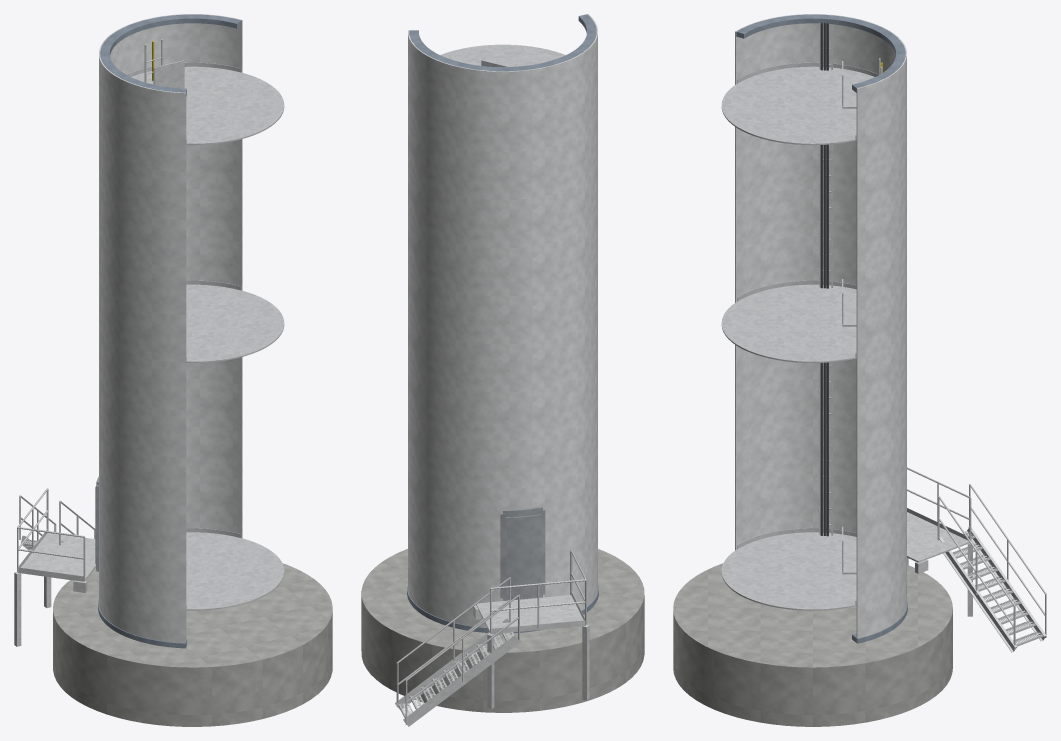
File: wind-tower-internals.glb
The picture shows the model from 3 angles, left to right: view 1: azimuth 30°, elevation 25°; view 2: azimuth 150°, elevation 25°; view 3: azimuth 270°, elevation 25°; orthographic projection.
Parts seen in each view (by area): view 1: TowerShell(contextcutaway), Foundation(context), Platforms, EntrancePlatform&Stair, Flanges(context); view 2: TowerShell(contextcutaway), Foundation(context), EntrancePlatform&Stair, DoorFrame, Flanges(context), Platforms; view 3: TowerShell(contextcutaway), Foundation(context), Platforms, EntrancePlatform&Stair, ExportCables(context), Flanges(context), CableLadder&Clamps.
Boxes of the visible parts, x1,y1,x2,y2 form: TowerShell(contextcutaway): (99,14,242,643); Foundation(context): (53,563,332,726); Platforms: (127,60,284,610); EntrancePlatform&Stair: (14,488,95,646); Flanges(context): (98,14,241,648); TowerShell(contextcutaway): (408,14,597,627); Foundation(context): (361,549,644,712); EntrancePlatform&Stair: (395,550,589,726); DoorFrame: (500,506,545,600); Flanges(context): (407,14,598,633); Platforms: (440,44,565,67); TowerShell(contextcutaway): (735,14,906,642); Foundation(context): (673,563,952,726); Platforms: (721,61,878,610); EntrancePlatform&Stair: (907,467,1046,652); ExportCables(context): (820,22,828,536); Flanges(context): (736,14,907,643); CableLadder&Clamps: (818,23,832,535).
Bounding box in the file's own units: 6.65 × 15.5 × 8.55.
Materials: 10 (9 with a texture image).
